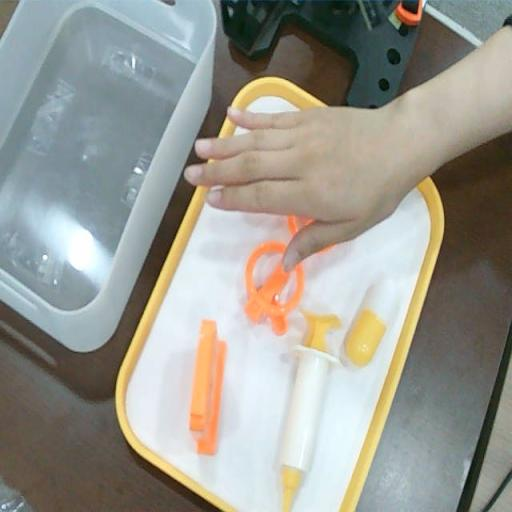hospital: (184, 98, 406, 266)
